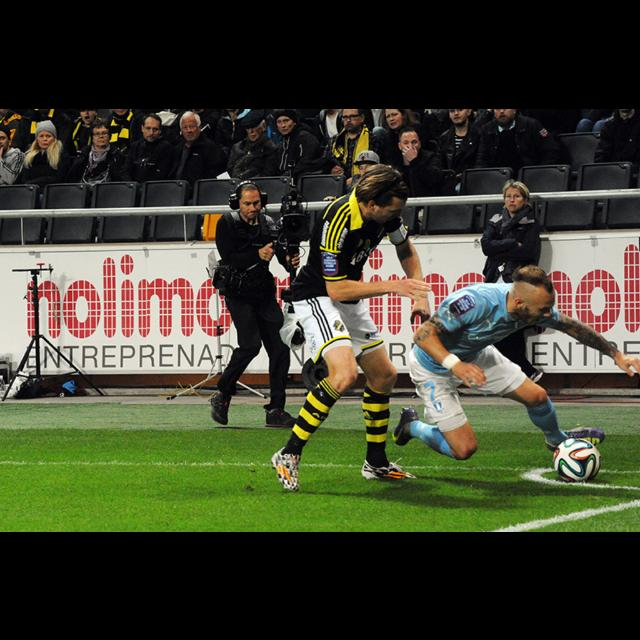Football: (549, 436, 601, 482)
